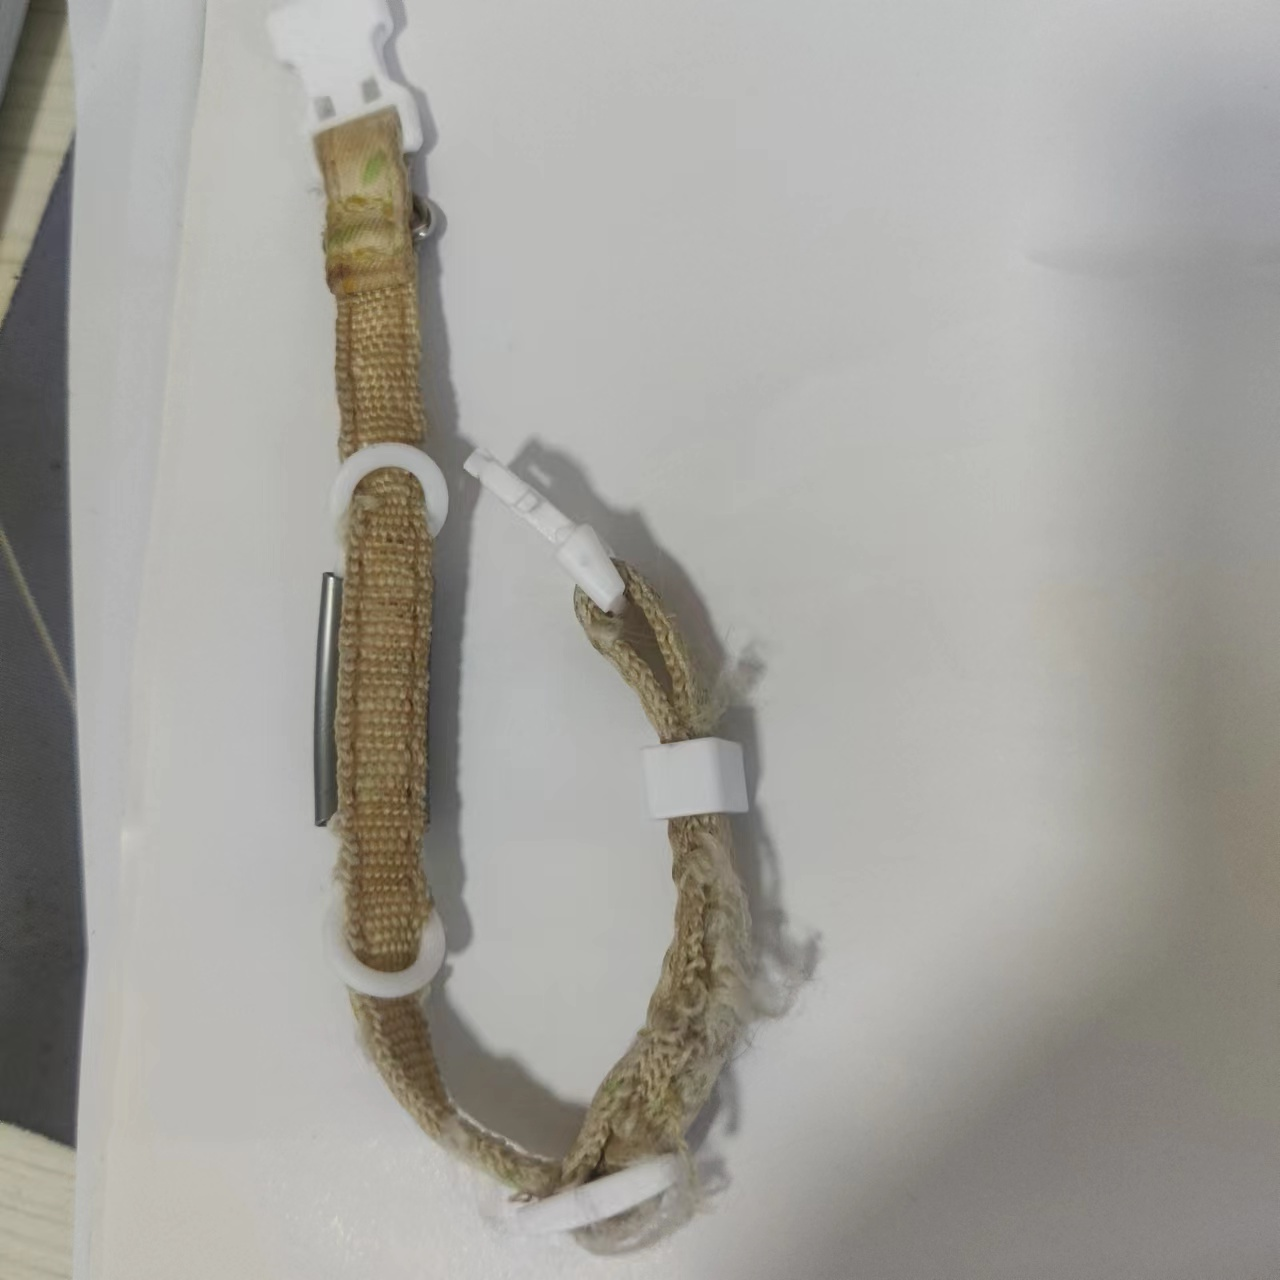9/可回收垃圾/绳子: (264, 2, 798, 1254)
